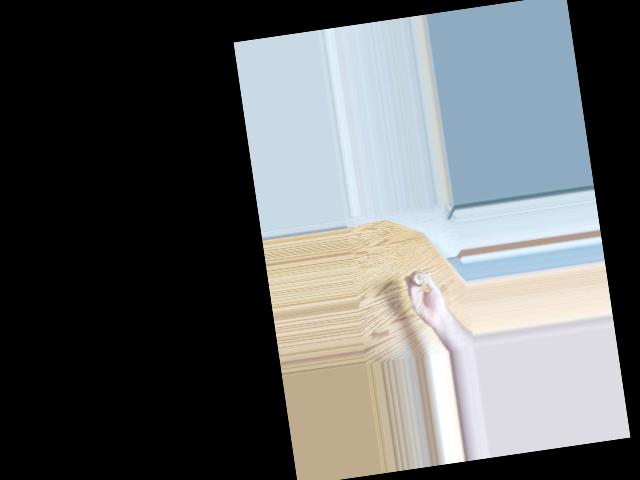sweet_potato: (411, 264, 430, 288)
